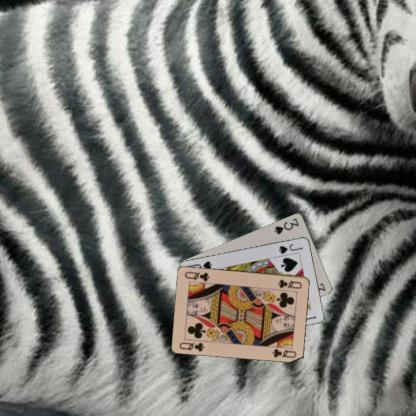3s: (272, 216, 301, 236)
Js: (276, 241, 304, 255)
Qc: (276, 276, 304, 290), (176, 340, 206, 352)
